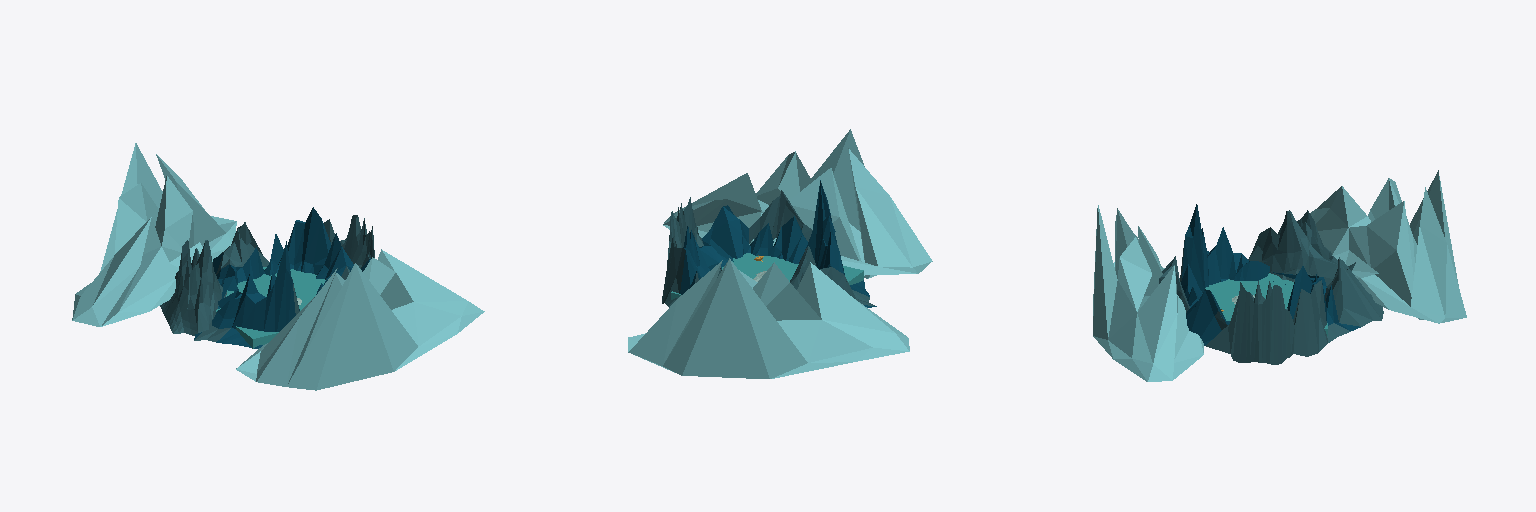
Rendered from planeroller530.obj.
The picture shows the model from 3 angles: view 1: azimuth 30°, elevation 25°; view 2: azimuth 150°, elevation 25°; view 3: azimuth 270°, elevation 25°; orthographic projection.
Parts seen in each view (by area): view 1: Icosphere.001, Icosphere, Torus, Plane, Cube; view 2: Icosphere, Icosphere.001, Torus, Cube, Plane; view 3: Torus, Icosphere, Icosphere.001, Plane, Cube.
Part boxes in pixels (x1,y1,x2,y2): Icosphere.001: (236, 249, 484, 390); Icosphere: (72, 143, 236, 326); Torus: (194, 207, 374, 348); Plane: (160, 240, 226, 335); Cube: (216, 267, 325, 348); Icosphere: (628, 258, 909, 378); Icosphere.001: (663, 129, 932, 278); Torus: (662, 180, 876, 307); Cube: (671, 253, 863, 299); Plane: (790, 246, 856, 299); Torus: (1159, 204, 1383, 364); Icosphere: (1310, 170, 1466, 323); Icosphere.001: (1093, 205, 1203, 381); Plane: (1248, 210, 1355, 281); Cube: (1205, 273, 1327, 335).
Bounding box in the file's own units: 371 × 144 × 370.